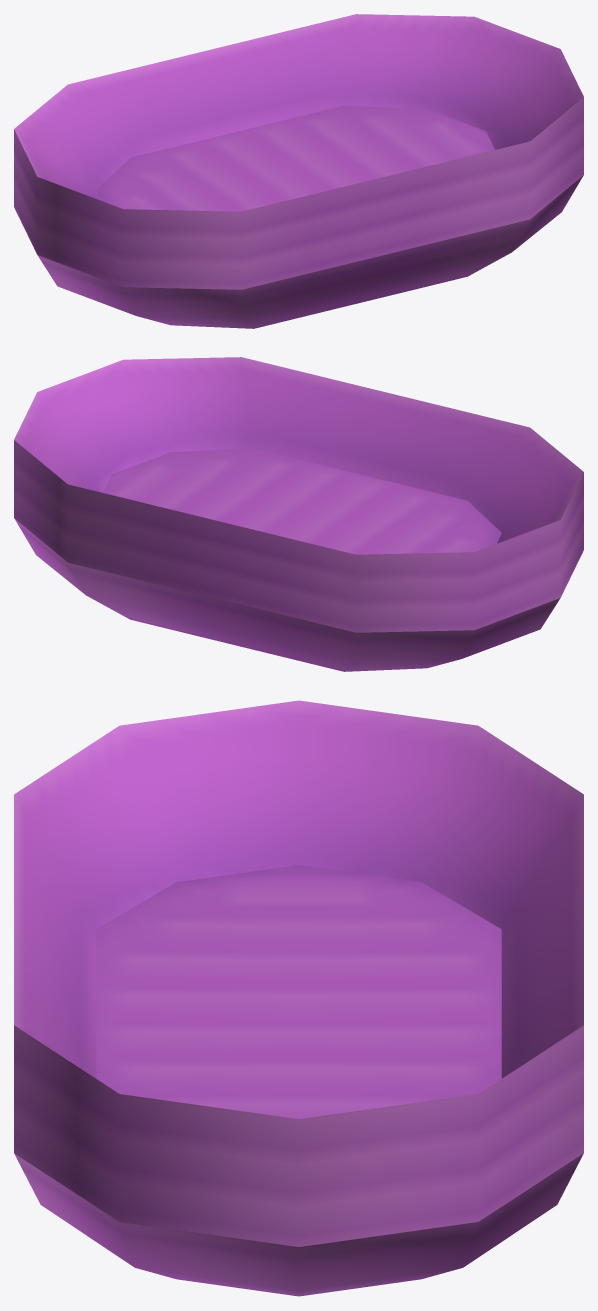
Rendered from jsf_Tray_11_Set.fbx.
3 views of the same model, one above another, from view 1: azimuth 30°, elevation 25°; view 2: azimuth 150°, elevation 25°; view 3: azimuth 270°, elevation 25° (orthographic). The views are drawn at different scales.
Visible parts, largest first — view 1: jsf_Tray_11_Set; view 2: jsf_Tray_11_Set; view 3: jsf_Tray_11_Set.
Part boxes in pixels (x1=…): jsf_Tray_11_Set: x1=14, y1=14, x2=583, y2=328; jsf_Tray_11_Set: x1=14, y1=357, x2=583, y2=671; jsf_Tray_11_Set: x1=14, y1=700, x2=583, y2=1296.
Bounding box in the file's own units: 12.35 × 3.26 × 7.11.
